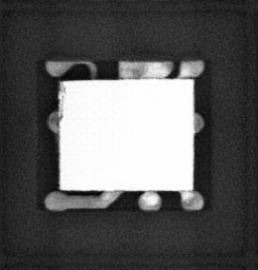DIE_INK: (59, 83, 67, 122)
